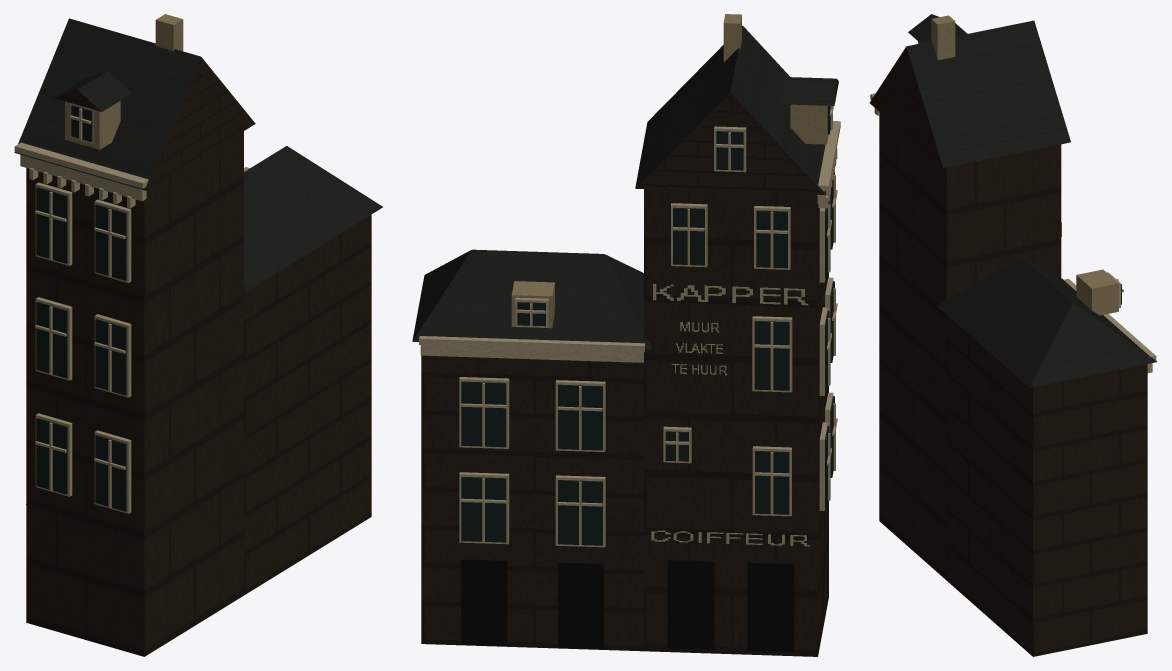
The picture shows the model from 3 angles, left to right: view 1: azimuth 30°, elevation 25°; view 2: azimuth 150°, elevation 25°; view 3: azimuth 270°, elevation 25°; orthographic projection. The views are drawn at different scales.
Visible parts, largest first — view 1: maison-versluys-galerij-0, maison-versluys-galerij-1, maison-versluys-galerij-4, maison-versluys-galerij-3, maison-versluys-galerij-2; view 2: maison-versluys-galerij-0, maison-versluys-galerij-1, maison-versluys-galerij-4, maison-versluys-galerij-3, maison-versluys-galerij-5, maison-versluys-galerij-2; view 3: maison-versluys-galerij-0, maison-versluys-galerij-1, maison-versluys-galerij-2, maison-versluys-galerij-3.
Part boxes in pixels (box(x1,y1,x2,y2)): maison-versluys-galerij-0: box(26, 57, 371, 656); maison-versluys-galerij-1: box(14, 18, 382, 291); maison-versluys-galerij-4: box(36, 105, 126, 511); maison-versluys-galerij-3: box(14, 103, 249, 513); maison-versluys-galerij-2: box(65, 14, 183, 149); maison-versluys-galerij-0: box(421, 79, 838, 656); maison-versluys-galerij-1: box(412, 25, 836, 349); maison-versluys-galerij-4: box(461, 106, 834, 545); maison-versluys-galerij-3: box(419, 106, 840, 547); maison-versluys-galerij-5: box(461, 559, 794, 652); maison-versluys-galerij-2: box(511, 14, 828, 328); maison-versluys-galerij-0: box(869, 33, 1147, 656); maison-versluys-galerij-1: box(906, 14, 1156, 387); maison-versluys-galerij-2: box(918, 15, 1118, 315); maison-versluys-galerij-3: box(870, 93, 1156, 373).
Bounding box in the file's own units: 13.31 × 19.5 × 9.65.
6 materials, 6 textured.
